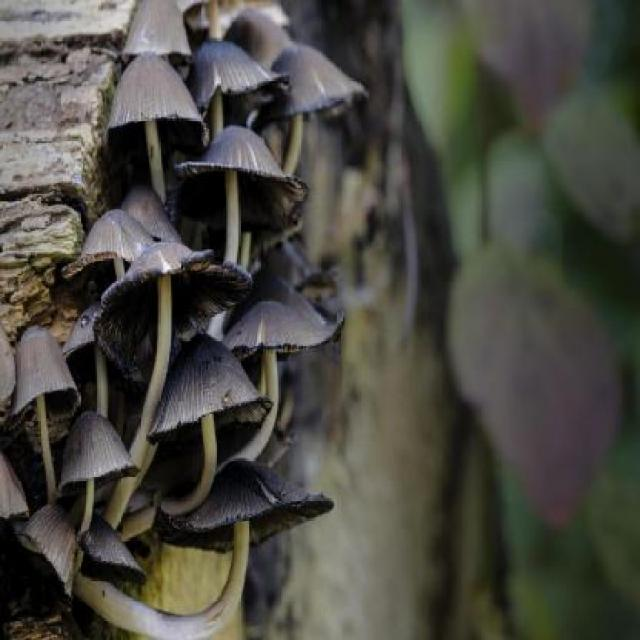Mushroom: (31, 45, 402, 632)
